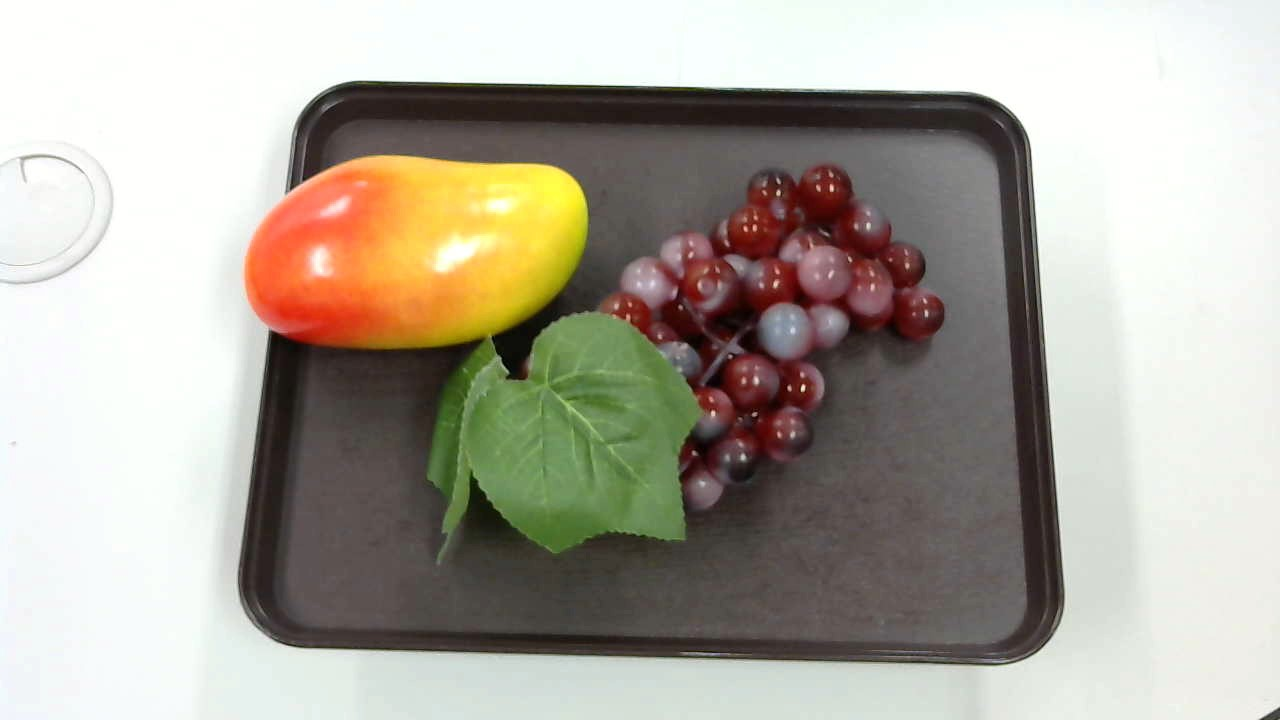grape: (417, 161, 957, 569)
red mango: (234, 147, 595, 356)
